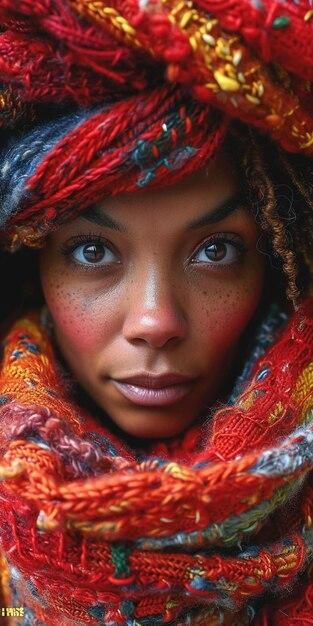cap: (0, 0, 313, 241)
